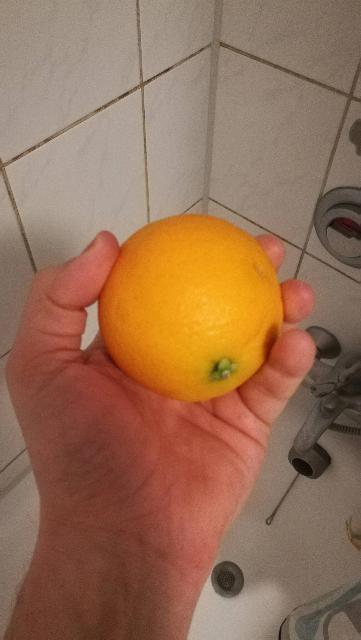Oranges: (97, 214, 282, 400)
